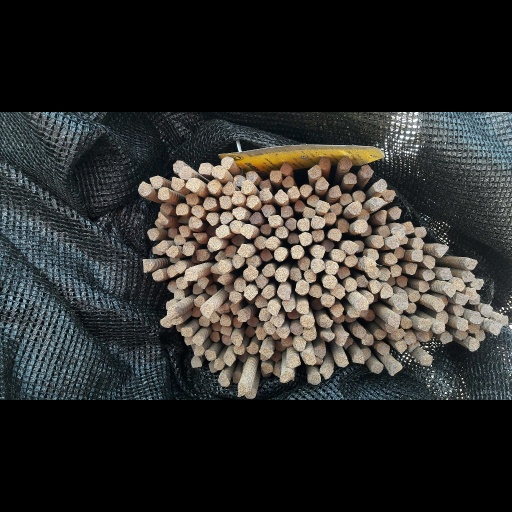dipstick: (416, 329, 434, 343), (242, 267, 258, 282), (294, 280, 309, 295), (290, 245, 305, 260), (361, 256, 376, 271), (433, 243, 448, 258), (314, 199, 330, 213), (389, 361, 403, 377), (170, 176, 184, 191), (221, 181, 236, 195), (206, 237, 221, 251), (310, 259, 325, 273), (315, 176, 329, 191), (359, 164, 373, 179), (330, 248, 345, 262), (323, 275, 338, 289), (331, 284, 345, 299), (487, 321, 502, 335), (370, 197, 386, 210), (380, 284, 393, 300), (468, 311, 484, 324), (185, 178, 199, 192), (258, 188, 272, 202), (217, 260, 231, 274), (302, 328, 316, 342), (273, 247, 287, 261), (303, 269, 317, 283), (298, 232, 312, 246), (311, 215, 325, 229), (343, 240, 357, 254), (385, 235, 399, 249), (391, 224, 405, 238), (442, 283, 456, 297), (138, 181, 151, 196), (299, 315, 314, 328), (280, 300, 295, 313), (277, 285, 290, 300), (307, 165, 322, 178), (318, 314, 333, 327), (462, 257, 477, 270), (211, 165, 224, 179), (188, 216, 202, 229), (231, 191, 245, 204), (218, 195, 231, 209), (274, 189, 287, 203), (260, 203, 274, 216), (241, 224, 254, 238), (237, 243, 250, 257), (243, 286, 256, 300), (293, 337, 306, 351), (302, 351, 315, 365), (262, 263, 275, 277), (274, 269, 287, 283), (311, 229, 325, 242), (311, 245, 325, 258), (308, 285, 322, 298), (338, 157, 352, 170), (414, 225, 427, 239), (325, 261, 338, 275), (365, 248, 379, 261), (422, 256, 436, 269), (404, 262, 418, 275), (387, 313, 400, 327), (439, 267, 453, 280), (431, 298, 444, 312), (207, 179, 219, 194), (246, 194, 258, 209), (232, 254, 244, 269), (183, 269, 198, 281), (275, 327, 290, 339), (342, 172, 357, 184), (336, 267, 351, 279), (328, 304, 343, 316), (345, 277, 357, 292), (320, 365, 332, 380), (375, 343, 390, 355), (149, 175, 162, 188), (178, 166, 191, 179), (220, 156, 233, 169), (156, 212, 169, 225), (205, 212, 218, 225), (220, 211, 233, 224), (264, 236, 277, 249), (296, 301, 309, 314), (297, 218, 310, 231), (310, 297, 323, 310), (306, 194, 319, 207), (328, 185, 341, 198), (373, 179, 386, 192), (388, 207, 401, 220), (328, 228, 341, 241), (371, 235, 384, 248), (321, 294, 334, 307), (308, 371, 321, 384), (455, 318, 468, 331), (172, 159, 184, 173), (202, 197, 216, 209), (191, 205, 205, 217), (192, 231, 206, 243), (241, 180, 253, 194), (215, 225, 229, 237), (288, 185, 300, 199), (267, 215, 281, 227), (253, 235, 265, 249), (245, 255, 259, 267), (260, 346, 272, 360), (268, 302, 280, 316), (270, 315, 284, 327), (298, 256, 310, 270), (348, 202, 362, 214), (353, 220, 367, 232), (356, 274, 368, 288), (417, 318, 431, 330), (432, 321, 446, 333), (435, 311, 449, 323), (461, 270, 475, 282), (471, 278, 485, 290), (194, 249, 209, 260), (255, 274, 266, 289), (376, 210, 387, 225), (369, 279, 380, 294), (319, 332, 335, 342), (157, 187, 169, 200), (199, 162, 211, 175), (232, 206, 244, 219), (230, 220, 242, 233), (269, 169, 281, 182), (280, 162, 292, 175), (249, 212, 262, 224), (279, 205, 291, 218), (181, 243, 194, 255), (175, 277, 188, 289), (200, 304, 212, 317), (246, 342, 258, 355), (261, 286, 273, 299), (275, 226, 288, 238), (284, 217, 296, 230), (286, 232, 299, 244), (300, 184, 313, 196), (352, 190, 365, 202), (382, 189, 395, 201), (323, 212, 336, 224), (377, 225, 390, 237), (345, 254, 358, 266), (384, 252, 397, 264), (411, 249, 423, 262), (422, 269, 435, 281), (353, 326, 365, 339), (361, 334, 374, 346), (336, 355, 348, 368), (314, 345, 326, 358), (374, 328, 387, 340), (408, 290, 421, 302), (417, 279, 429, 292), (453, 278, 465, 291), (464, 286, 476, 299), (455, 293, 468, 305), (451, 305, 464, 317), (481, 305, 493, 318), (184, 193, 198, 204), (256, 295, 267, 309), (264, 321, 275, 335), (280, 372, 294, 383), (286, 357, 300, 368), (338, 219, 349, 233), (336, 332, 347, 346), (378, 267, 389, 281), (439, 332, 453, 343), (466, 323, 480, 334), (469, 338, 480, 352), (454, 329, 468, 340), (160, 202, 172, 214), (146, 228, 158, 240), (233, 174, 245, 186), (245, 171, 257, 183), (151, 269, 163, 281), (231, 233, 243, 245), (259, 223, 271, 235), (260, 249, 272, 261), (233, 280, 245, 292), (228, 291, 240, 303), (218, 375, 230, 387), (236, 384, 248, 396), (290, 268, 302, 280), (330, 202, 342, 214), (323, 240, 335, 252), (412, 237, 424, 249), (393, 246, 405, 258), (404, 332, 416, 344), (395, 297, 407, 309), (469, 293, 481, 305), (175, 203, 188, 214), (141, 259, 152, 272), (291, 323, 302, 336), (302, 206, 315, 217), (319, 157, 330, 170), (340, 193, 353, 204), (403, 221, 414, 234), (364, 309, 375, 322), (392, 329, 405, 340), (395, 339, 406, 352), (420, 355, 433, 366), (178, 225, 190, 236), (174, 261, 185, 273), (214, 251, 226, 262), (224, 246, 235, 258), (209, 331, 221, 342), (192, 345, 204, 356), (190, 357, 202, 368), (223, 354, 234, 366), (247, 316, 259, 327), (293, 200, 305, 211), (361, 225, 373, 236), (332, 313, 344, 324), (367, 267, 379, 278), (396, 276, 407, 288), (353, 353, 364, 365), (372, 363, 384, 374), (400, 317, 412, 328), (406, 302, 417, 314), (281, 176, 294, 186), (260, 363, 273, 373), (256, 327, 266, 340), (259, 308, 269, 321), (286, 309, 299, 319), (354, 240, 364, 253), (360, 348, 370, 361), (174, 235, 185, 246), (205, 224, 216, 235), (166, 246, 177, 257), (193, 296, 204, 307), (198, 316, 209, 327), (220, 325, 231, 336), (192, 335, 203, 346), (205, 350, 216, 361), (231, 335, 242, 346), (275, 340, 286, 351), (271, 351, 282, 362), (358, 209, 369, 220), (357, 299, 368, 310), (218, 275, 230, 285), (197, 277, 207, 289), (205, 286, 217, 296), (173, 289, 185, 299), (158, 318, 170, 328), (180, 327, 192, 337), (217, 304, 229, 314), (230, 302, 240, 314), (220, 314, 230, 326), (222, 334, 232, 346), (231, 372, 241, 384), (244, 389, 256, 399), (281, 336, 293, 346), (343, 338, 353, 350), (390, 265, 402, 275), (364, 292, 374, 304), (439, 294, 449, 306), (474, 331, 486, 341), (167, 307, 180, 316), (169, 316, 182, 325), (391, 305, 404, 314), (157, 241, 167, 252), (192, 283, 203, 293), (191, 307, 201, 318), (210, 312, 220, 323), (232, 316, 242, 327), (213, 359, 223, 370), (233, 344, 244, 354), (245, 326, 255, 337), (398, 234, 408, 245), (498, 316, 509, 326), (259, 179, 271, 188), (167, 265, 176, 277), (167, 281, 176, 293), (348, 308, 360, 317), (396, 290, 408, 299), (406, 342, 421, 349), (344, 315, 357, 323), (167, 228, 177, 238), (164, 301, 174, 311), (174, 323, 184, 333), (177, 215, 188, 224), (210, 265, 221, 274), (211, 272, 220, 283), (211, 321, 220, 332), (237, 311, 246, 322), (237, 353, 248, 362), (260, 369, 272, 377), (387, 275, 395, 287), (384, 324, 396, 332), (183, 337, 196, 344), (154, 219, 164, 228), (152, 246, 162, 255), (208, 361, 216, 372), (315, 356, 323, 367), (273, 366, 280, 378), (272, 331, 281, 340), (358, 309, 367, 318), (223, 284, 233, 292), (245, 298, 256, 305), (372, 293, 379, 303), (168, 257, 179, 263), (190, 255, 198, 263)
